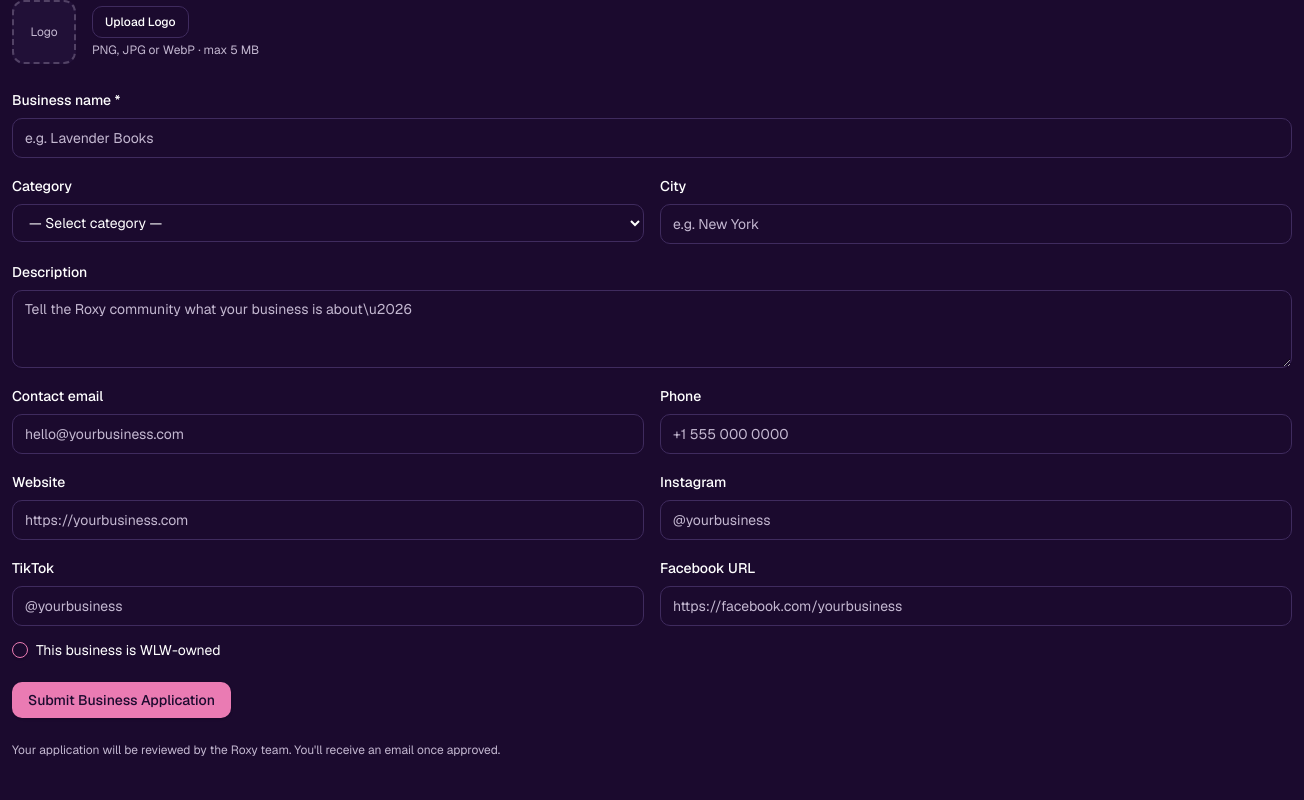
BusinessForm › shows inline error when createBusiness returns error
This screenshot has width=1304, height=800.
In the field labelled "Business name *": (652, 138) [12, 118, 1292, 158], type "Test Business"
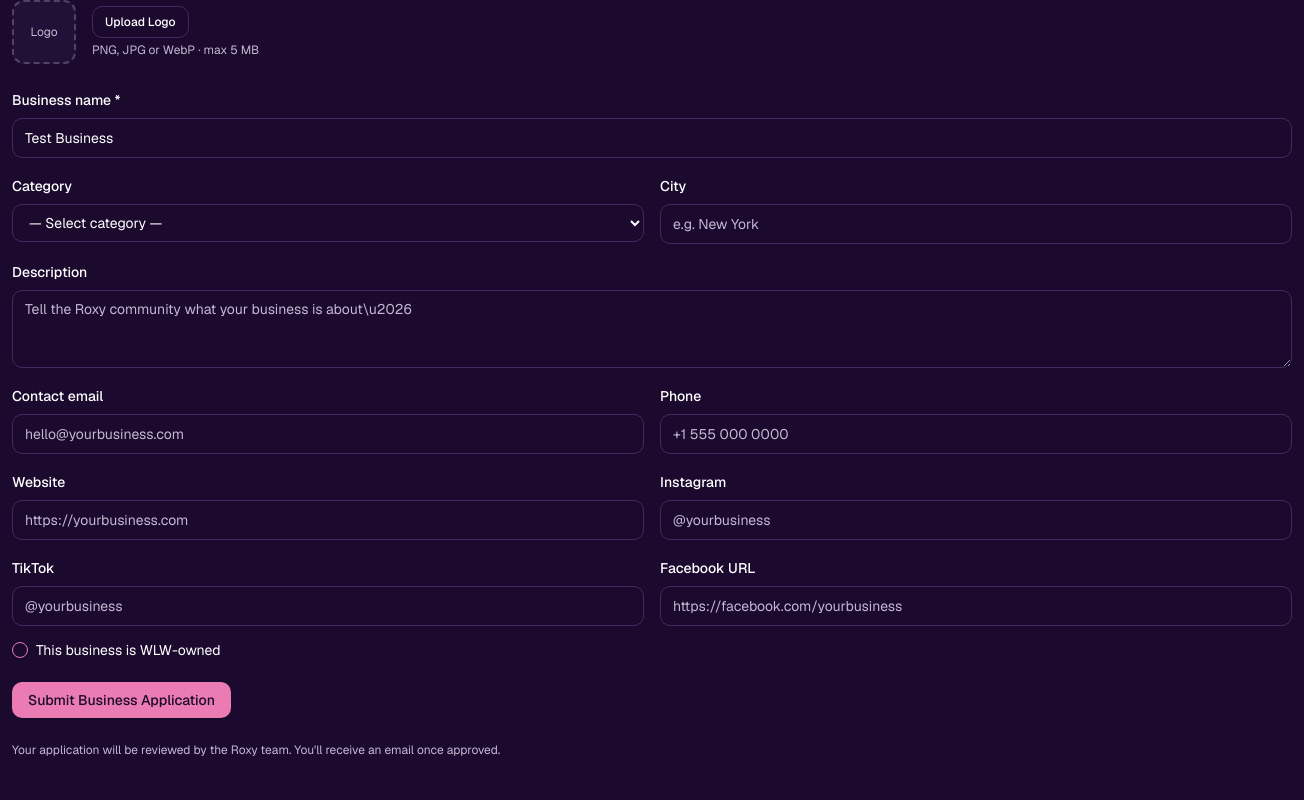
Click the button "Submit Business Application": (121, 700) [12, 682, 231, 718]
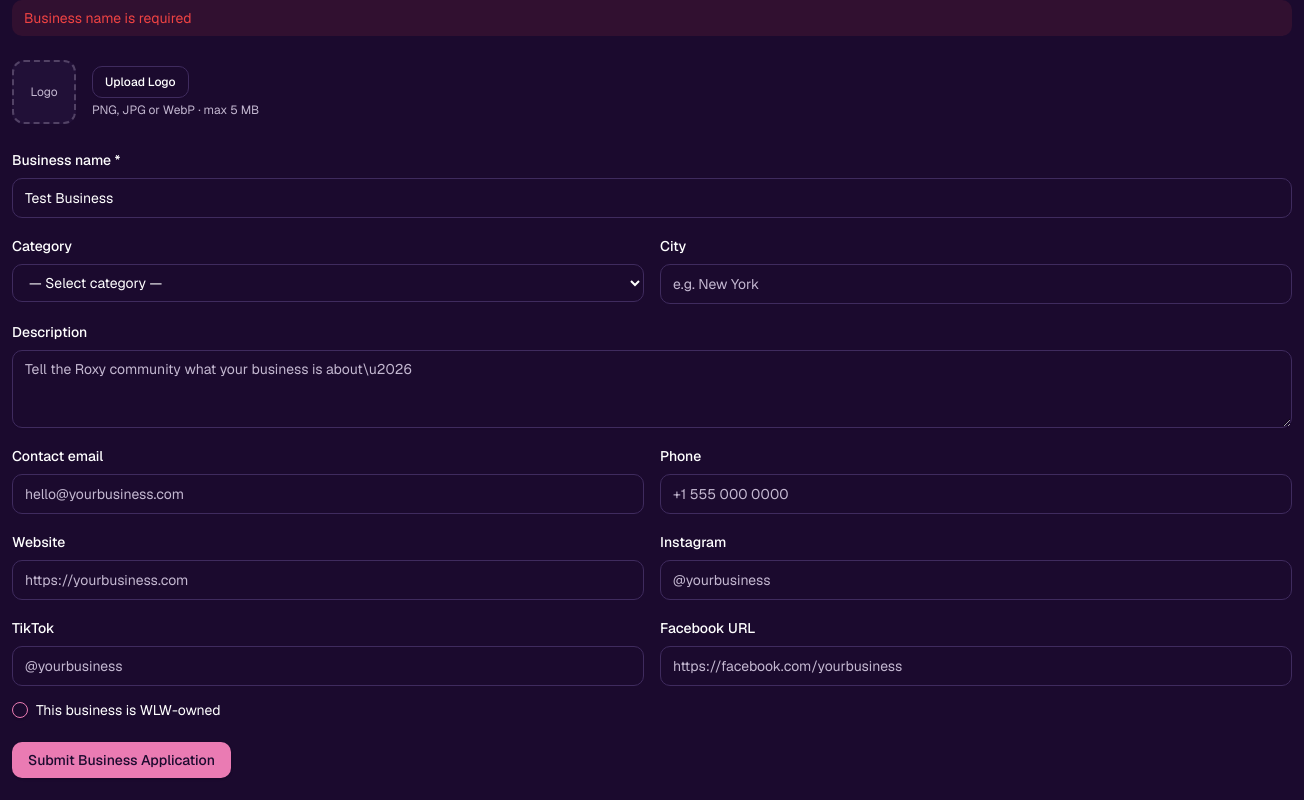
Check: the text "Business name is required" is shown, box [12, 0, 1292, 36]
